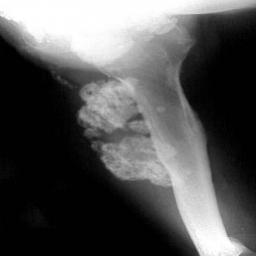cancer: (79, 77, 212, 188)
